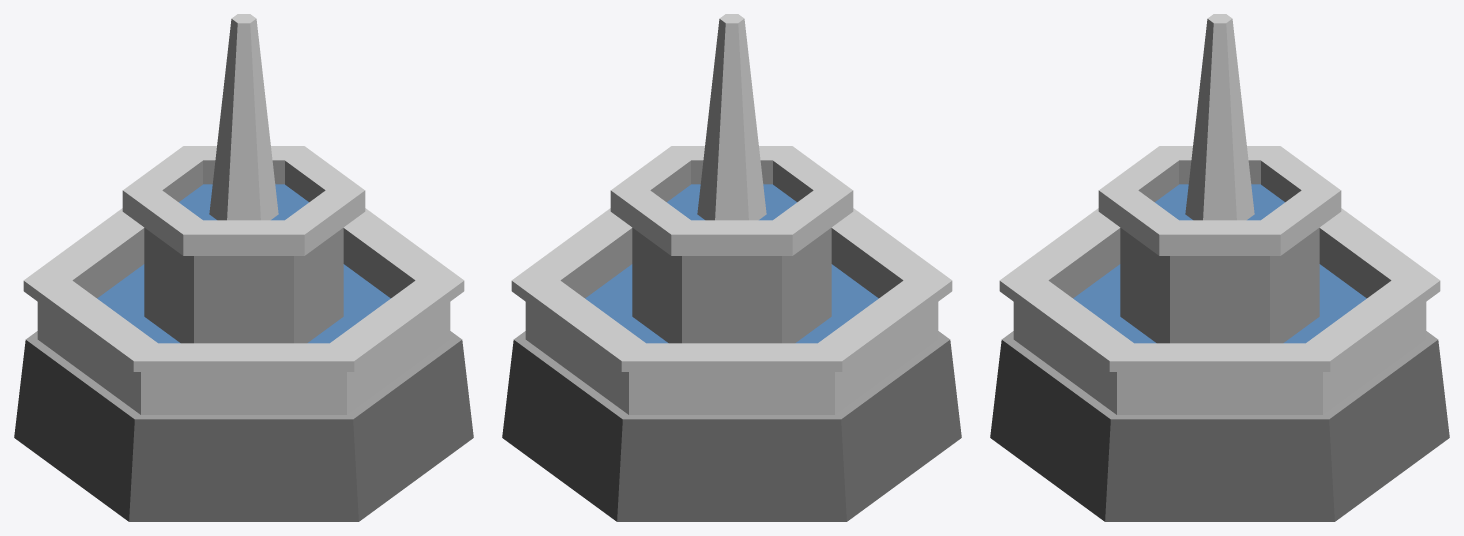
The model's file is fontain.glb.
The picture shows the model from 3 angles, left to right: view 1: azimuth 30°, elevation 25°; view 2: azimuth 150°, elevation 25°; view 3: azimuth 270°, elevation 25°; orthographic projection.
Visible parts, largest first — view 1: fontain; view 2: fontain; view 3: fontain.
Part boxes in pixels (box(x1,y1,x2,y2)): fontain: box(14, 14, 473, 521); fontain: box(502, 14, 961, 521); fontain: box(990, 14, 1449, 521).
Bounding box in the file's own units: 1.42 × 1.65 × 1.64.
